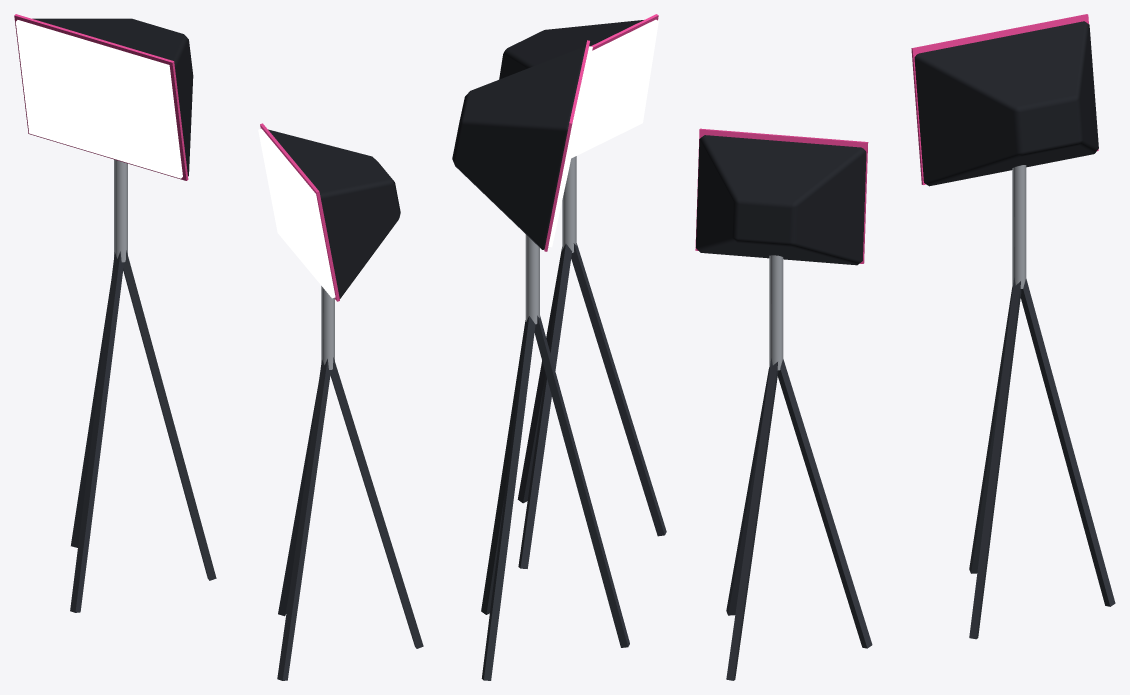
The model's file is station_buffer_ausstattung_2_1.glb.
3 renders of one model, left to right at view 1: azimuth 30°, elevation 25°; view 2: azimuth 150°, elevation 25°; view 3: azimuth 270°, elevation 25°, orthographic.
Visible parts, largest first — view 1: station_buffer_ausstattung_2_1; view 2: station_buffer_ausstattung_2_1; view 3: station_buffer_ausstattung_2_1.
Boxes of the visible parts, <box> form: station_buffer_ausstattung_2_1: <box>14,14,423,680</box>; station_buffer_ausstattung_2_1: <box>452,14,666,680</box>; station_buffer_ausstattung_2_1: <box>695,14,1115,680</box>.
Bounding box in the file's own units: 0.7037 × 1.62 × 1.11.
